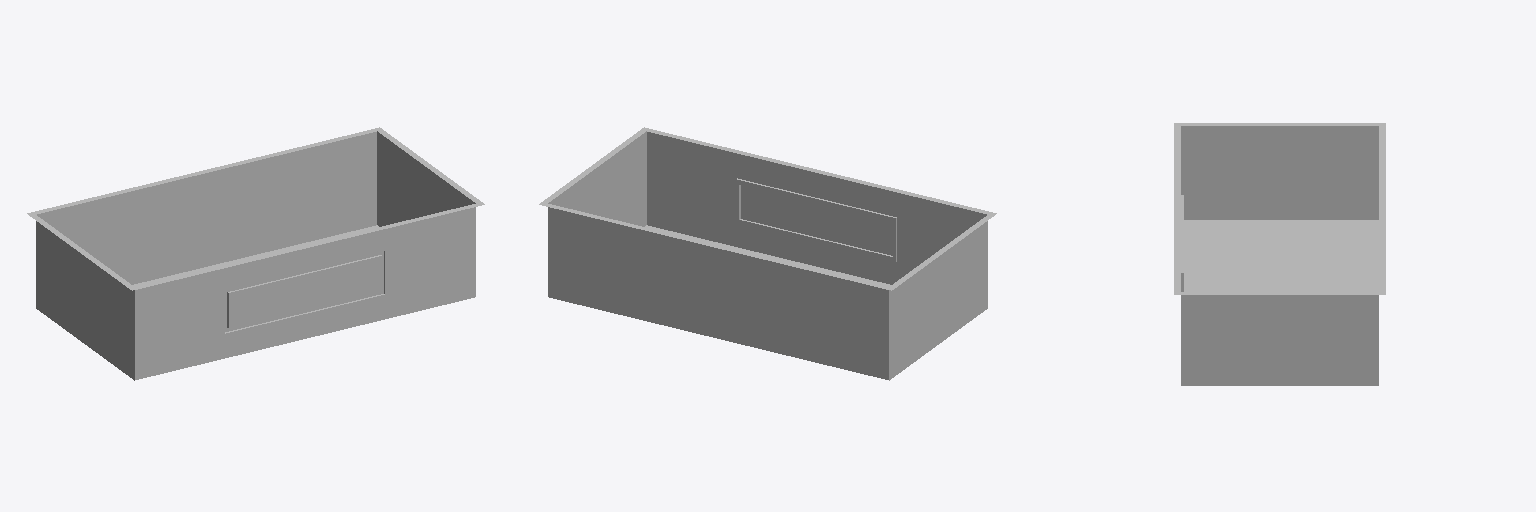
The model's file is labo.obj.
The picture shows the model from 3 angles: view 1: azimuth 30°, elevation 25°; view 2: azimuth 150°, elevation 25°; view 3: azimuth 270°, elevation 25°; orthographic projection.
Visible parts, largest first — view 1: Box001_Box001; view 2: Box001_Box001; view 3: Box001_Box001.
Part boxes in pixels (x1,y1,x2,y2): Box001_Box001: (27, 127, 484, 380); Box001_Box001: (539, 127, 996, 380); Box001_Box001: (1174, 123, 1385, 385).
Bounding box in the file's own units: 828 × 210 × 428.